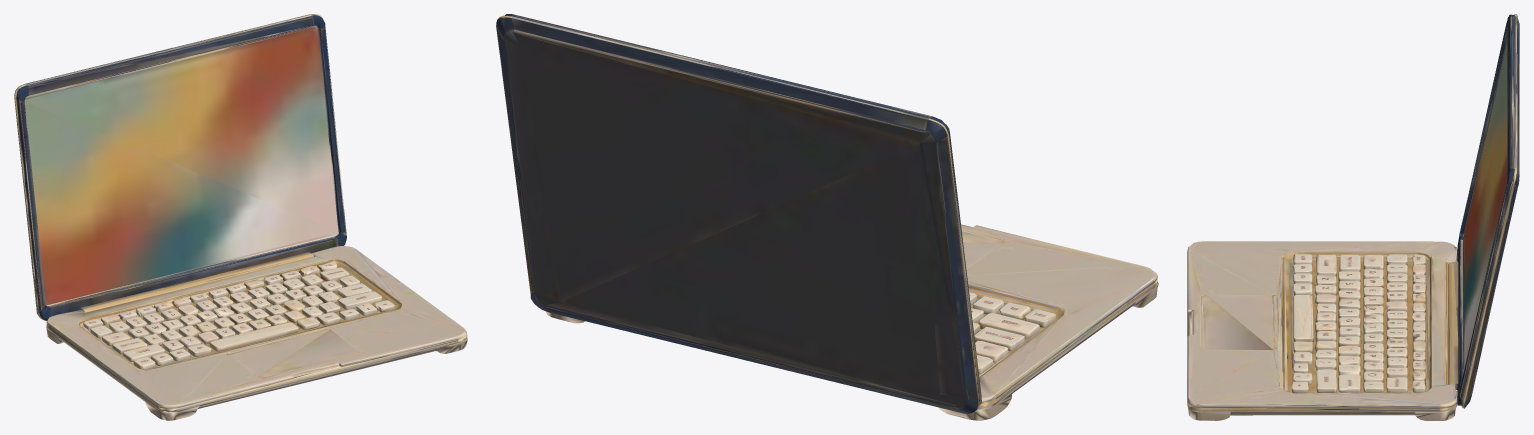
Rendered from laptop.glb.
The picture shows the model from 3 angles, left to right: view 1: azimuth 30°, elevation 25°; view 2: azimuth 150°, elevation 25°; view 3: azimuth 270°, elevation 25°; orthographic projection. The views are drawn at different scales.
Parts seen in each view (by area): view 1: prop; view 2: prop; view 3: prop.
Part boxes in pixels (left/top/right/bottom): prop: left=14, top=14, right=467, bottom=420; prop: left=496, top=14, right=1158, bottom=420; prop: left=1187, top=14, right=1519, bottom=420.
Bounding box in the file's own units: 0.36 × 0.2527 × 0.3075.
1 material, 1 textured.
